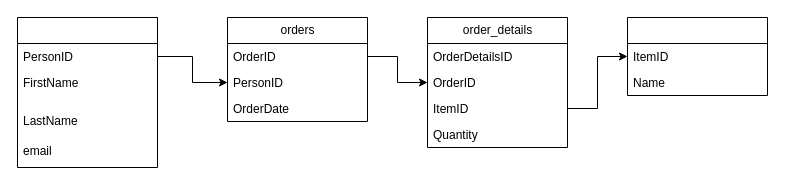
The diagram is 785 pixels wide and 188 high, and some of its shapes have lost their labels. Here are the shapes that lost their labels. From the top down, the box of each, then its label:
(626, 16, 768, 96): items
(16, 16, 158, 168): people
